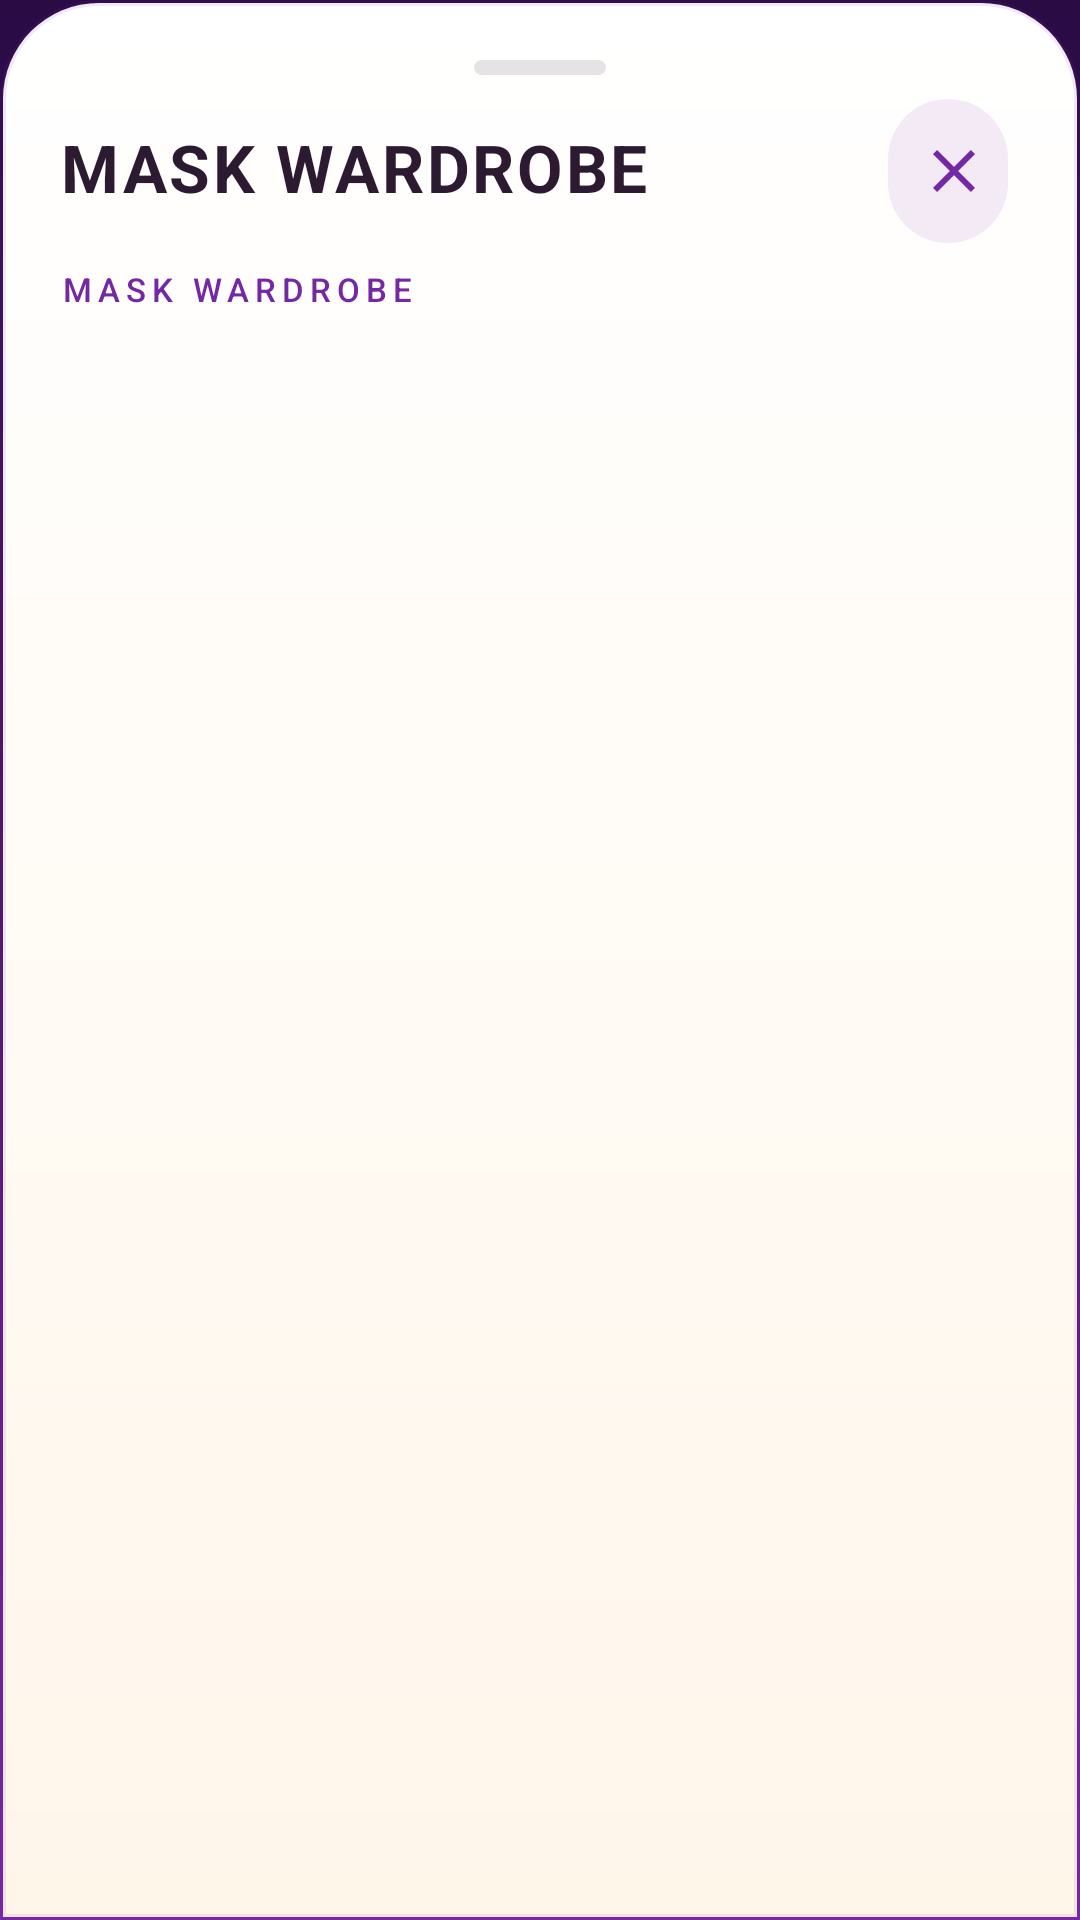

Screen size 1080 × 1920. Icon name, then its center in pixels as [x,y]:
Close: [948,171]
